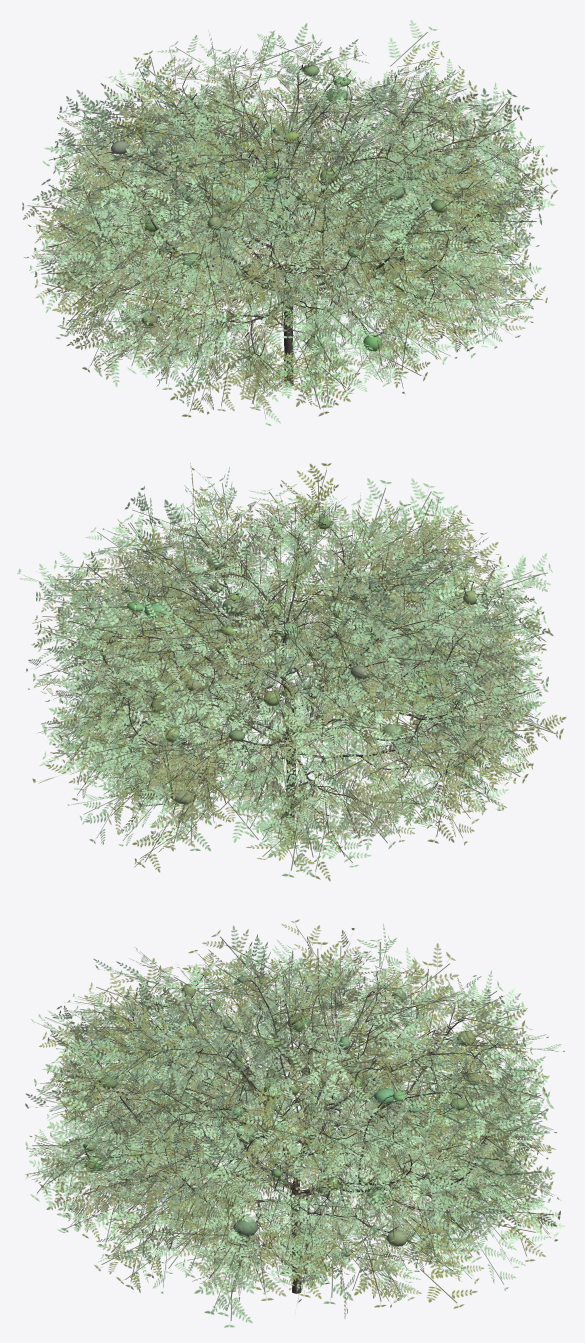
The model's file is tree_27_broadleaf.glb.
The picture shows the model from 3 angles, top to bottom: view 1: azimuth 30°, elevation 25°; view 2: azimuth 150°, elevation 25°; view 3: azimuth 270°, elevation 25°; orthographic projection. The views are drawn at different scales.
Visible parts, largest first — view 1: tree_27_broadleaf.leaves, tree_27_broadleaf.trunk_branches, tree_27_broadleaf.foliage_volume; view 2: tree_27_broadleaf.leaves, tree_27_broadleaf.trunk_branches, tree_27_broadleaf.foliage_volume; view 3: tree_27_broadleaf.leaves, tree_27_broadleaf.trunk_branches, tree_27_broadleaf.foliage_volume.
Part boxes in pixels (bbox=[...]): tree_27_broadleaf.leaves: bbox=[22, 20, 558, 425]; tree_27_broadleaf.trunk_branches: bbox=[87, 64, 491, 386]; tree_27_broadleaf.foliage_volume: bbox=[111, 64, 498, 351]; tree_27_broadleaf.leaves: bbox=[17, 463, 566, 881]; tree_27_broadleaf.trunk_branches: bbox=[81, 511, 493, 839]; tree_27_broadleaf.foliage_volume: bbox=[95, 516, 485, 804]; tree_27_broadleaf.leaves: bbox=[25, 919, 564, 1327]; tree_27_broadleaf.trunk_branches: bbox=[84, 971, 509, 1293]; tree_27_broadleaf.foliage_volume: bbox=[83, 976, 512, 1256].
Bounding box in the file's own units: 11.88 × 7.14 × 11.4.
Materials: 3 (2 with a texture image).
